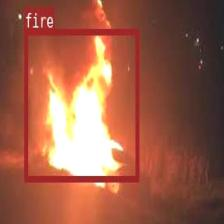fire: (24, 29, 138, 180)
